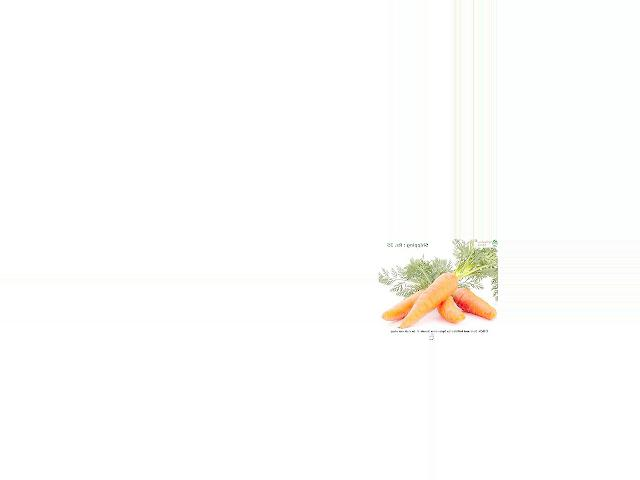carrot: (451, 283, 496, 320)
